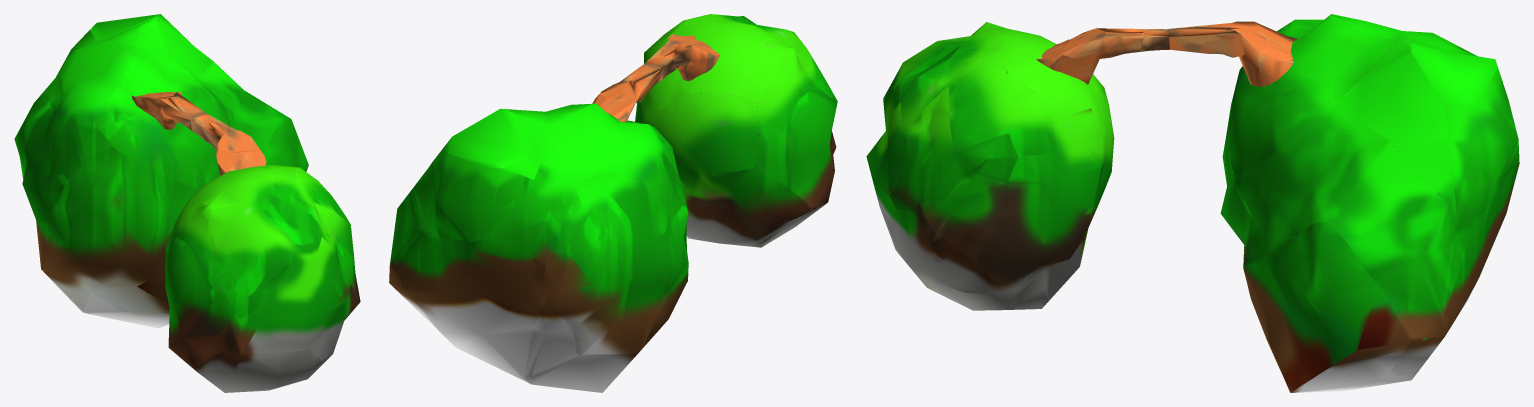
Rendered from island_with_bridge_separtated.fbx_Scene 1.fbx.
3 renders of one model, left to right at view 1: azimuth 30°, elevation 25°; view 2: azimuth 150°, elevation 25°; view 3: azimuth 270°, elevation 25°, orthographic. The views are drawn at different scales.
Parts seen in each view (by area): view 1: Icosphere.002_cell, Icosphere.002_cell.009, Icosphere.001_cell.015, Icosphere.001_cell.003, Icosphere.001_cell.009, Icosphere.002_cell.018, Icosphere.002_cell.004, Icosphere.001_cell.012, Icosphere.002_cell.010, Icosphere.001_cell.001, Icosphere.002_cell.007, Icosphere.002_cell.001 (+14 smaller); view 2: Icosphere.002_cell.018, Icosphere.002_cell.016, Icosphere.002_cell.002, Icosphere.001_cell.003, Icosphere.001_cell.013, Icosphere.002_cell.004, Icosphere.001_cell.011, Icosphere.002_cell.017, Icosphere.001_cell.001, Icosphere.002_cell.003, Icosphere.002_cell.015, Icosphere.001_cell.014 (+11 smaller); view 3: Icosphere.002_cell.010, Icosphere.002_cell.001, Icosphere.001_cell.007, Icosphere.002_cell.009, Icosphere.002_cell.007, Icosphere.001_cell.008, Icosphere.002_cell.002, Icosphere.001_cell.014, Icosphere.001_cell.015, Icosphere.001_cell.004, Icosphere.002_cell.016, Icosphere.001_cell.006 (+17 smaller).
Part boxes in pixels (left/top/right/bottom): Icosphere.002_cell: left=43, top=146, right=198, bottom=328; Icosphere.002_cell.009: left=100, top=29, right=224, bottom=189; Icosphere.001_cell.015: left=239, top=198, right=343, bottom=353; Icosphere.001_cell.003: left=165, top=208, right=242, bottom=364; Icosphere.001_cell.009: left=209, top=198, right=291, bottom=319; Icosphere.002_cell.018: left=14, top=95, right=81, bottom=272; Icosphere.002_cell.004: left=60, top=29, right=136, bottom=131; Icosphere.001_cell.012: left=186, top=345, right=322, bottom=392; Icosphere.002_cell.010: left=205, top=63, right=282, bottom=182; Icosphere.001_cell.001: left=182, top=166, right=276, bottom=211; Icosphere.002_cell.007: left=118, top=20, right=214, bottom=86; Icosphere.002_cell.001: left=263, top=114, right=308, bottom=171; Icosphere.002_cell.018: left=558, top=160, right=687, bottom=354; Icosphere.002_cell.016: left=393, top=220, right=547, bottom=379; Icosphere.002_cell.002: left=413, top=146, right=557, bottom=241; Icosphere.001_cell.003: left=756, top=57, right=837, bottom=207; Icosphere.001_cell.013: left=676, top=165, right=817, bottom=246; Icosphere.002_cell.004: left=526, top=103, right=669, bottom=181; Icosphere.001_cell.011: left=651, top=92, right=758, bottom=176; Icosphere.002_cell.017: left=522, top=145, right=679, bottom=380; Icosphere.001_cell.001: left=681, top=20, right=789, bottom=102; Icosphere.002_cell.003: left=444, top=108, right=538, bottom=168; Icosphere.002_cell.015: left=524, top=354, right=636, bottom=392; Icosphere.001_cell.014: left=640, top=14, right=747, bottom=124; Icosphere.002_cell.010: left=1237, top=115, right=1452, bottom=379; Icosphere.002_cell.001: left=1243, top=222, right=1412, bottom=392; Icosphere.001_cell.007: left=925, top=153, right=1101, bottom=290; Icosphere.002_cell.009: left=1227, top=18, right=1397, bottom=179; Icosphere.002_cell.007: left=1324, top=38, right=1457, bottom=247; Icosphere.001_cell.008: left=939, top=60, right=1058, bottom=157; Icosphere.002_cell.002: left=1446, top=46, right=1519, bottom=228; Icosphere.001_cell.014: left=947, top=49, right=1105, bottom=169; Icosphere.001_cell.015: left=866, top=57, right=949, bottom=221; Icosphere.001_cell.004: left=887, top=209, right=1006, bottom=293; Icosphere.002_cell.016: left=1361, top=159, right=1519, bottom=386; Icosphere.001_cell.006: left=923, top=104, right=988, bottom=214.
Bounding box in the file's own units: 2084 × 2072 × 3409.
Materials: 4 (4 with a texture image).
